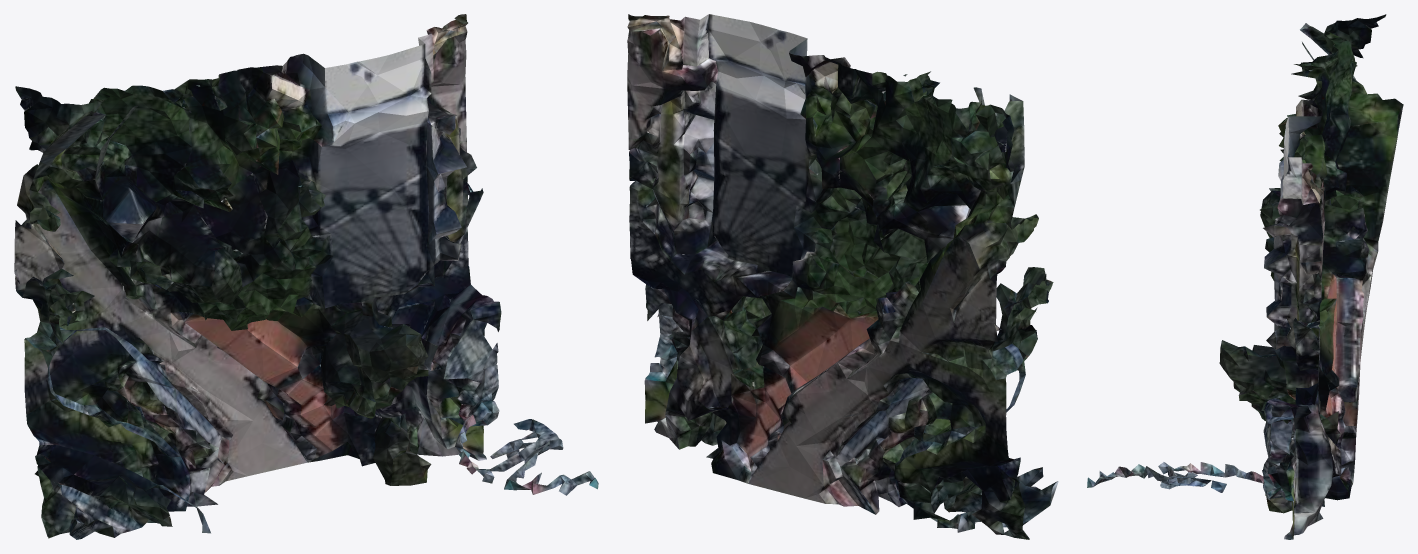
File: Tile_+033_+029_L18_00001.obj
The picture shows the model from 3 angles, left to right: view 1: azimuth 30°, elevation 25°; view 2: azimuth 150°, elevation 25°; view 3: azimuth 270°, elevation 25°; orthographic projection. The views are drawn at different scales.
Size of the model in its own units: 63.5 by 63 by 50.54.
1 material, 1 textured.
